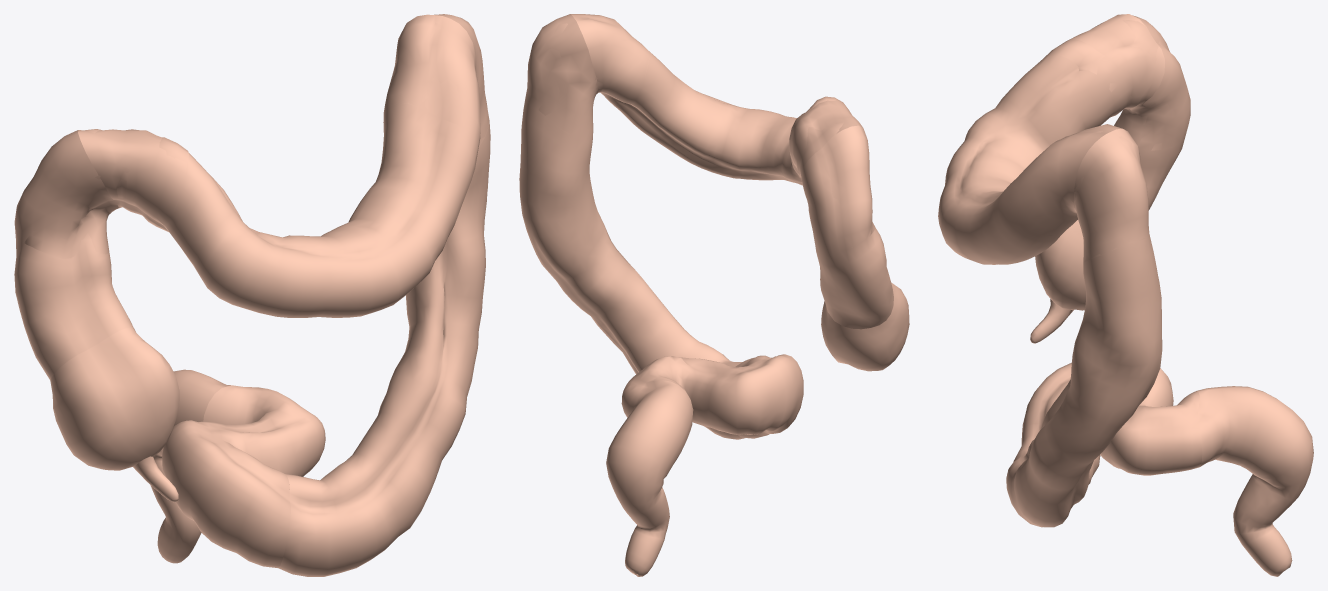
The model's file is large-intestine.glb.
The picture shows the model from 3 angles, left to right: view 1: azimuth 30°, elevation 25°; view 2: azimuth 150°, elevation 25°; view 3: azimuth 270°, elevation 25°; orthographic projection. The views are drawn at different scales.
Parts seen in each view (by area): view 1: VH_F_transverse_colon, VH_F_descending_colon, VH_F_sigmoid_colon, VH_F_ascending_colon, VH_F_caecum, VH_F_rectum, VH_F_hepatic_flexure_of_colon, VH_F_splenic_flexure_of_colon, VH_F_vermiform_appendix; view 2: VH_F_descending_colon, VH_F_transverse_colon, VH_F_ascending_colon, VH_F_rectum, VH_F_sigmoid_colon, VH_F_caecum, VH_F_hepatic_flexure_of_colon, VH_F_splenic_flexure_of_colon; view 3: VH_F_descending_colon, VH_F_transverse_colon, VH_F_rectum, VH_F_sigmoid_colon, VH_F_ascending_colon, VH_F_caecum, VH_F_hepatic_flexure_of_colon, VH_F_vermiform_appendix, VH_F_splenic_flexure_of_colon.
Boxes of the visible parts, left/top/right/bottom form: VH_F_transverse_colon: left=78, top=14, right=480, bottom=317; VH_F_descending_colon: left=278, top=14, right=490, bottom=576; VH_F_sigmoid_colon: left=162, top=385, right=325, bottom=567; VH_F_ascending_colon: left=14, top=130, right=135, bottom=379; VH_F_caecum: left=50, top=327, right=179, bottom=470; VH_F_rectum: left=150, top=369, right=230, bottom=563; VH_F_hepatic_flexure_of_colon: left=16, top=129, right=188, bottom=258; VH_F_splenic_flexure_of_colon: left=386, top=14, right=489, bottom=146; VH_F_vermiform_appendix: left=133, top=456, right=178, bottom=502; VH_F_descending_colon: left=519, top=14, right=744, bottom=439; VH_F_transverse_colon: left=570, top=14, right=862, bottom=185; VH_F_ascending_colon: left=801, top=125, right=893, bottom=329; VH_F_rectum: left=606, top=380, right=693, bottom=576; VH_F_sigmoid_colon: left=622, top=354, right=803, bottom=438; VH_F_caecum: left=821, top=282, right=909, bottom=371; VH_F_hepatic_flexure_of_colon: left=789, top=96, right=875, bottom=255; VH_F_splenic_flexure_of_colon: left=525, top=16, right=649, bottom=137; VH_F_descending_colon: left=1006, top=128, right=1162, bottom=527; VH_F_transverse_colon: left=938, top=14, right=1164, bottom=264; VH_F_rectum: left=1197, top=386, right=1313, bottom=576; VH_F_sigmoid_colon: left=1022, top=362, right=1202, bottom=475; VH_F_ascending_colon: left=1114, top=15, right=1190, bottom=210; VH_F_caecum: left=1035, top=220, right=1085, bottom=310; VH_F_hepatic_flexure_of_colon: left=1044, top=18, right=1181, bottom=150; VH_F_vermiform_appendix: left=1030, top=299, right=1073, bottom=343; VH_F_splenic_flexure_of_colon: left=1010, top=130, right=1144, bottom=261.
Size of the model in its own units: 0.2433 by 0.2949 by 0.1934.
